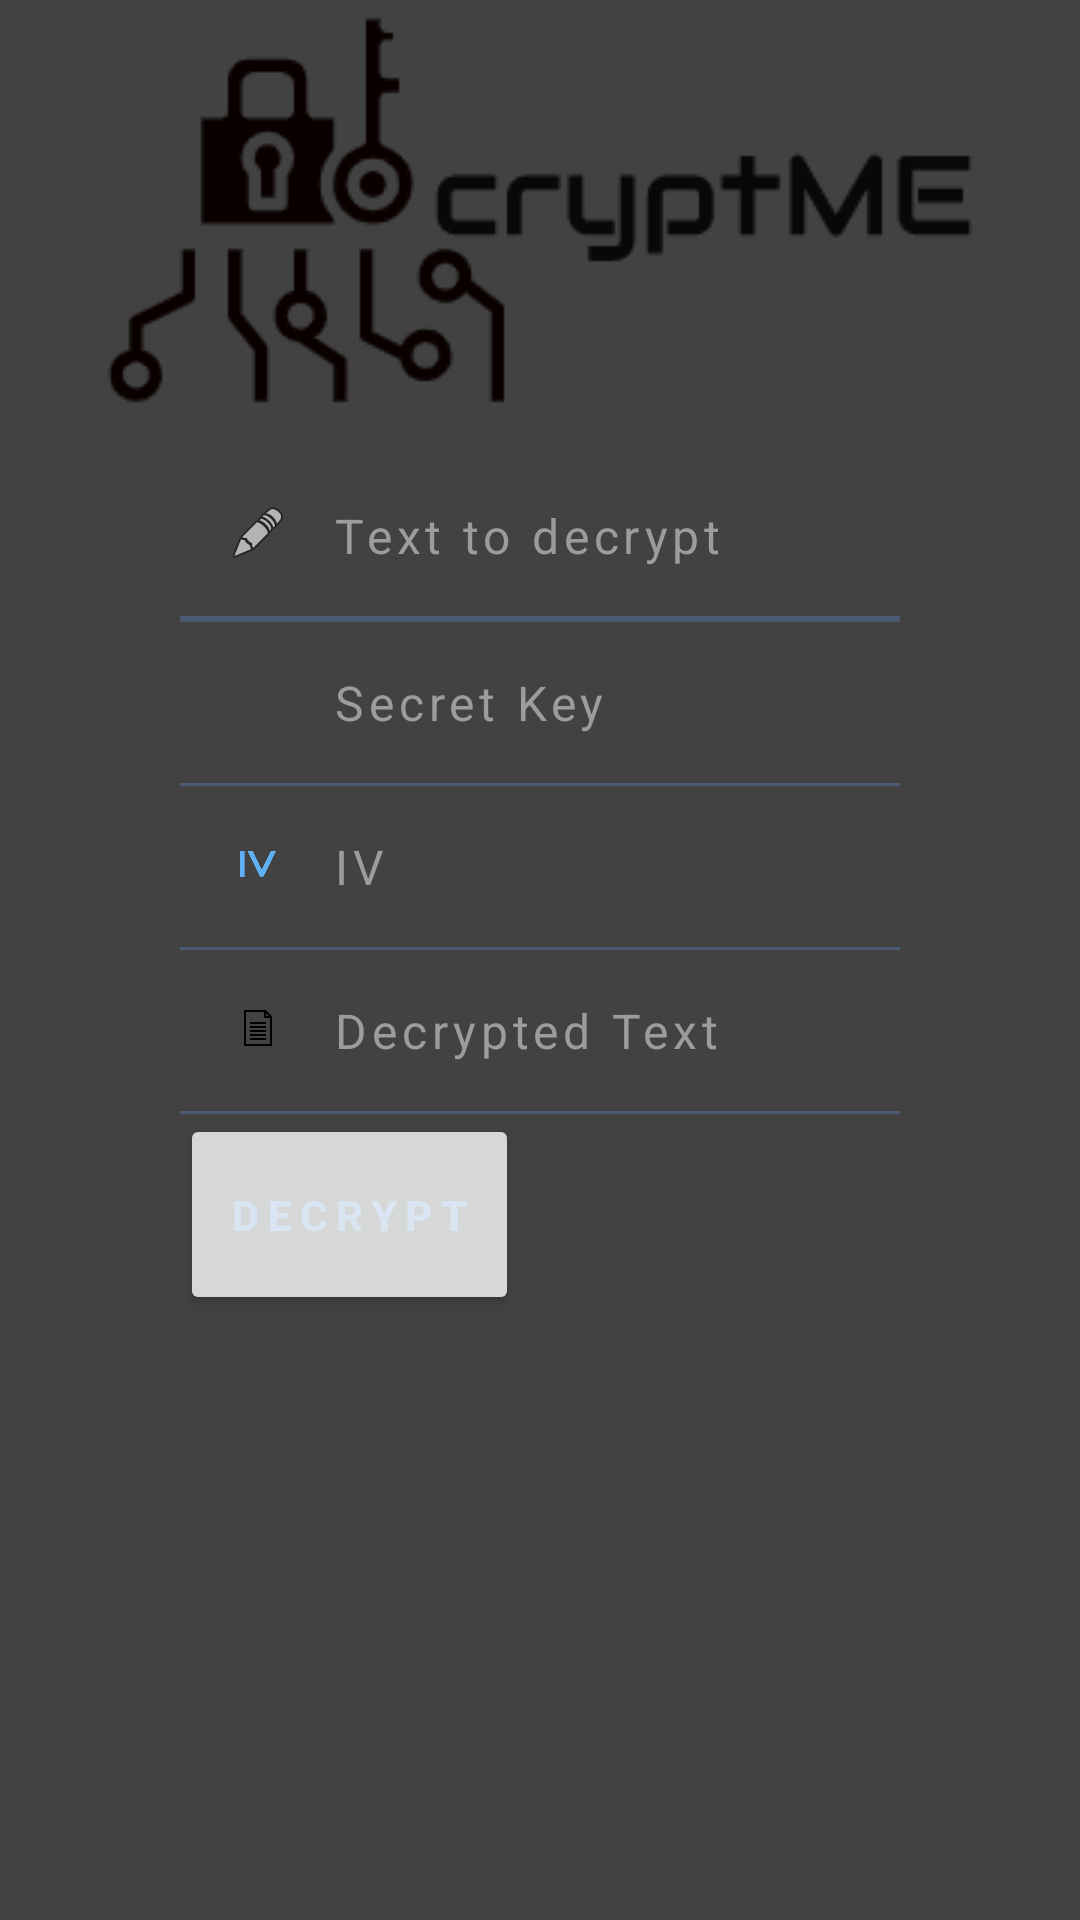

Point at icon controls on the screen. Image size 1080px×1920px, points as [x,y].
edit: [258,532]
plaintext main: [258,1028]
